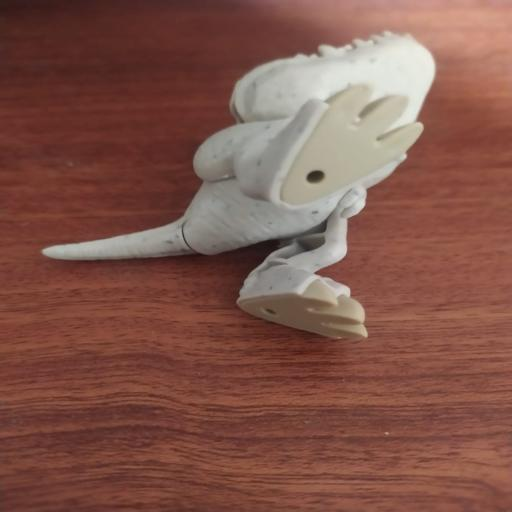Dinosaurio: (37, 26, 453, 348)
